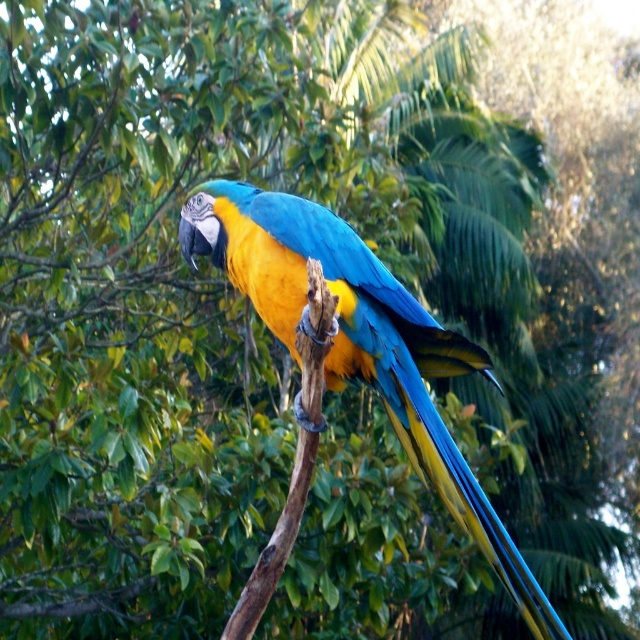Parrot: (179, 177, 574, 639)
